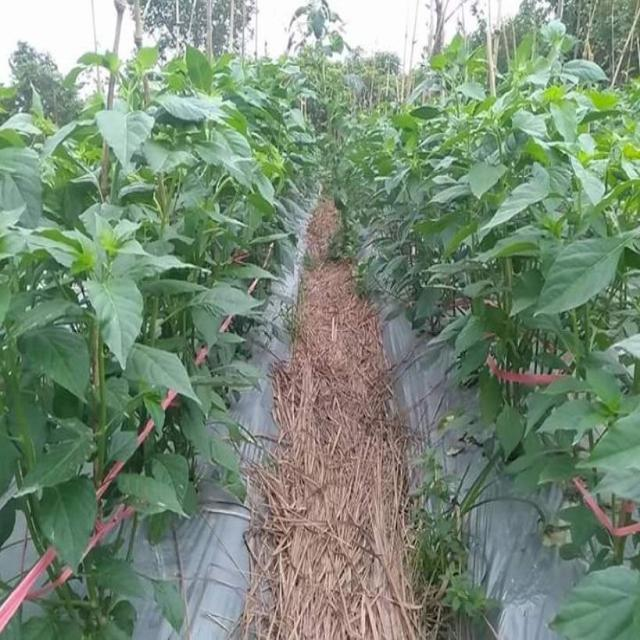row: (204, 178, 514, 640)
